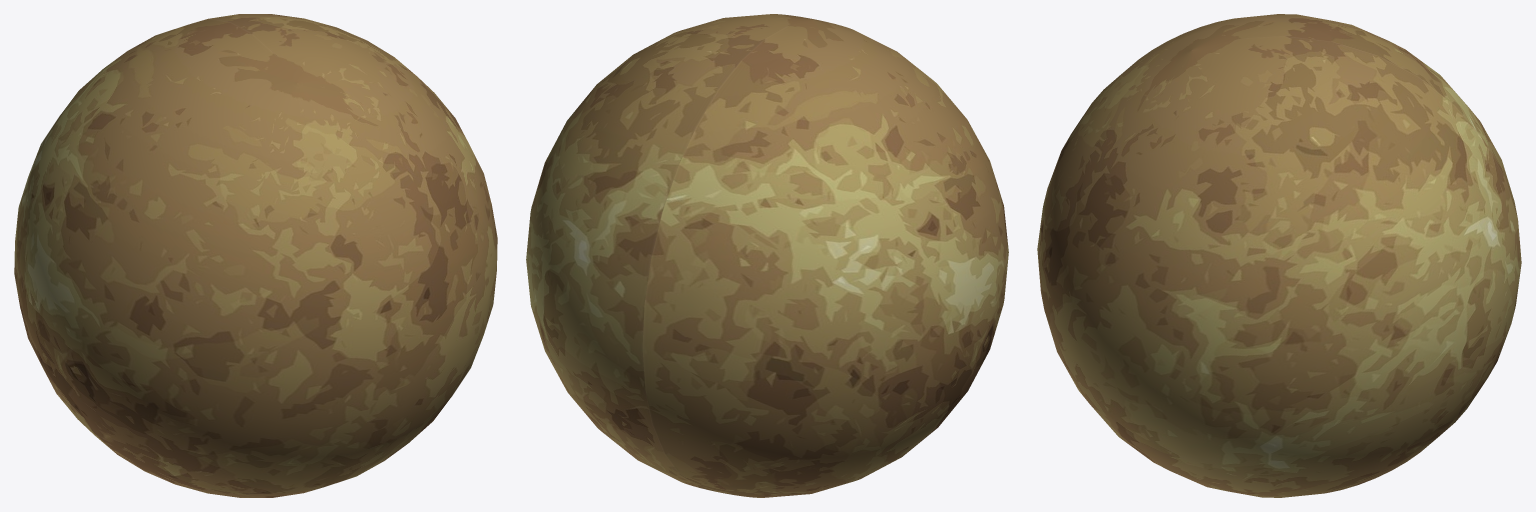
Rendered from venus.glb.
3 views of the same model, side by side, from view 1: azimuth 30°, elevation 25°; view 2: azimuth 150°, elevation 25°; view 3: azimuth 270°, elevation 25° (orthographic).
Parts seen in each view (by area): view 1: Venus; view 2: Venus; view 3: Venus.
Part boxes in pixels (<box>): Venus: <box>14,14,497,497</box>; Venus: <box>526,14,1008,497</box>; Venus: <box>1037,14,1521,497</box>.
Bounding box in the file's own units: 0.9188 × 0.9187 × 0.9185.
Materials: 1 (1 with a texture image).
